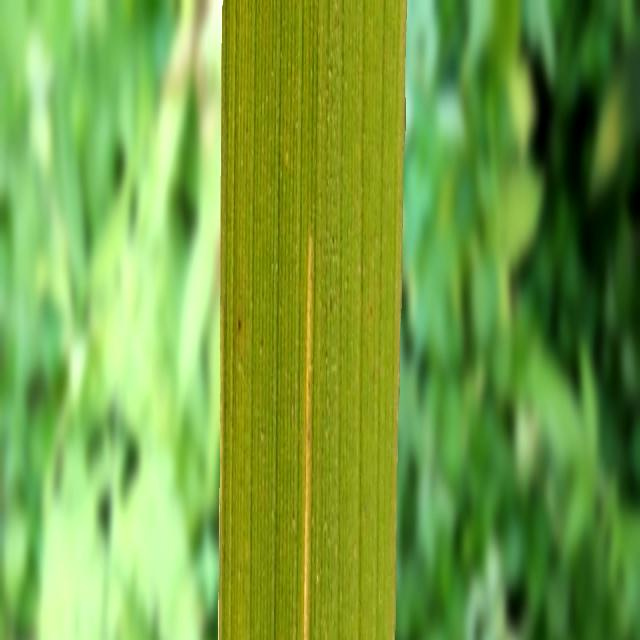BLS: (301, 234, 313, 640)
